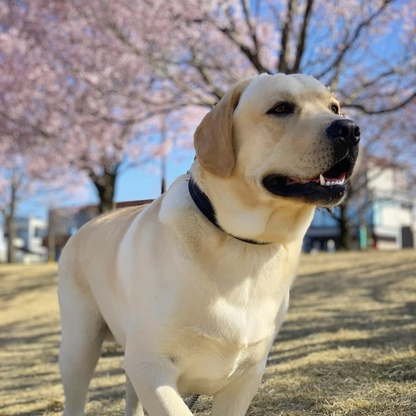labrado: (52, 68, 366, 416)
